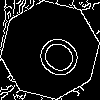O: (25, 25, 86, 84)
